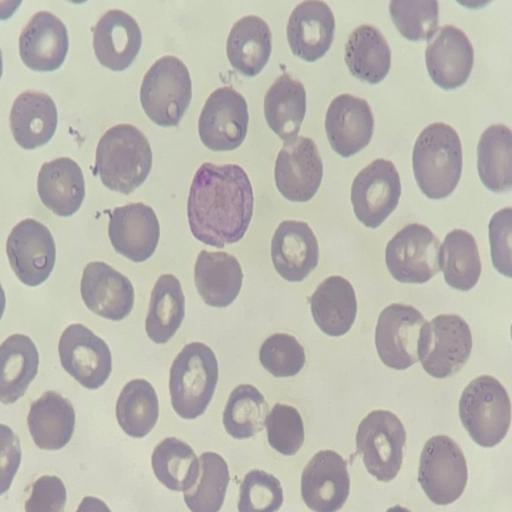Infected: (187, 163, 254, 245)
Uninfected: (93, 124, 152, 193), (412, 122, 462, 196), (168, 343, 217, 418), (354, 409, 405, 480), (458, 375, 509, 446), (139, 55, 191, 124), (57, 324, 111, 389), (261, 75, 308, 148), (5, 218, 55, 286), (385, 223, 440, 283), (417, 437, 466, 504), (374, 304, 425, 368), (350, 160, 400, 225), (79, 260, 133, 320), (418, 314, 471, 375), (199, 83, 247, 150), (424, 25, 473, 88), (273, 138, 322, 201), (106, 204, 159, 261), (300, 452, 350, 511), (19, 10, 68, 70), (92, 9, 141, 69), (324, 94, 372, 155), (308, 275, 356, 335), (193, 249, 242, 307), (270, 221, 318, 280), (36, 157, 84, 215), (9, 90, 57, 148), (286, 2, 334, 60), (145, 274, 186, 341), (225, 16, 272, 74), (182, 452, 228, 511), (26, 392, 74, 448), (0, 334, 39, 401), (344, 24, 389, 82), (438, 228, 480, 290), (152, 436, 199, 491), (115, 379, 158, 437), (222, 385, 267, 438), (477, 123, 512, 191), (264, 403, 304, 454), (258, 333, 303, 378), (390, 1, 437, 42), (487, 209, 512, 281), (238, 470, 281, 510)
